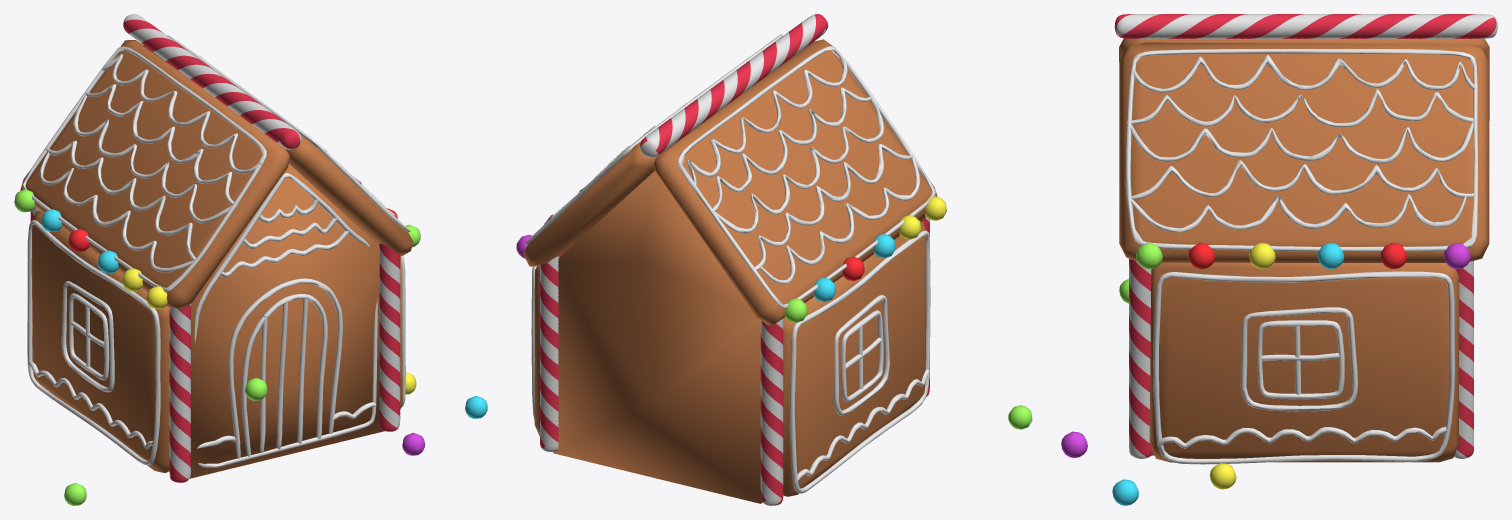
The model's file is gingerbread-house.glb.
3 views of the same model, side by side, from view 1: azimuth 30°, elevation 25°; view 2: azimuth 150°, elevation 25°; view 3: azimuth 270°, elevation 25° (orthographic). The views are drawn at different scales.
Parts seen in each view (by area): view 1: Cube.001, House, Cube.003, Simple_GP_Layer.001, Simple_GP_Layer, Simple_GP_Layer.002, Cylinder, Cylinder.001, Cylinder.002; view 2: House, Cube.001, Cube.003, Simple_GP_Layer, Simple_GP_Layer.002, Cylinder, Cylinder.004, Cylinder.003; view 3: Cube.001, Cube.003, Simple_GP_Layer, Simple_GP_Layer.001, Cylinder, Cylinder.001, Cylinder.003, Roundcube.012, Roundcube.011, Roundcube.001, Roundcube.013, Roundcube.002 (+4 smaller).
Part boxes in pixels (box(x1,y1,x2,y2)): Cube.001: box(20, 40, 413, 309); House: box(189, 164, 384, 478); Cube.003: box(31, 211, 402, 472); Simple_GP_Layer.001: box(194, 173, 405, 467); Simple_GP_Layer: box(22, 35, 410, 291); Simple_GP_Layer.002: box(27, 220, 160, 465); Cylinder: box(123, 14, 301, 150); Cylinder.001: box(378, 243, 400, 431); Cylinder.002: box(169, 303, 190, 482); House: box(553, 171, 762, 503); Cube.001: box(523, 39, 937, 325); Cube.003: box(534, 221, 926, 496); Simple_GP_Layer: box(525, 34, 935, 308); Simple_GP_Layer.002: box(789, 230, 930, 493); Cylinder: box(640, 14, 828, 157); Cylinder.004: box(760, 318, 783, 505); Cylinder.003: box(540, 253, 562, 451); Cube.001: box(1119, 38, 1489, 262); Cube.003: box(1149, 262, 1459, 462); Simple_GP_Layer: box(1125, 49, 1477, 251); Simple_GP_Layer.001: box(1153, 271, 1454, 464); Cylinder: box(1114, 14, 1497, 38); Cylinder.001: box(1129, 258, 1153, 458); Cylinder.003: box(1454, 261, 1473, 458); Roundcube.012: box(1112, 479, 1138, 505); Roundcube.011: box(1209, 463, 1236, 489); Roundcube.001: box(1444, 242, 1470, 269); Roundcube.013: box(1061, 431, 1087, 458); Roundcube.002: box(1317, 242, 1344, 269).
Size of the model in its own units: 3.49 by 2.71 by 2.79.
